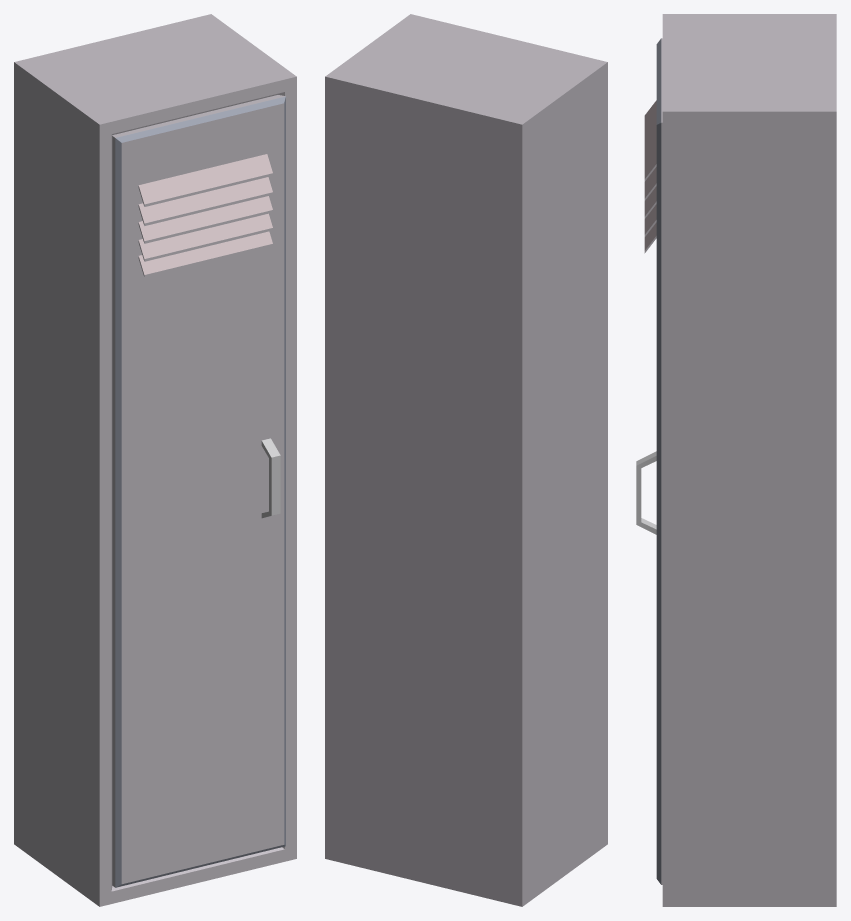
File: Shelf.fbx
3 renders of one model, left to right at view 1: azimuth 30°, elevation 25°; view 2: azimuth 150°, elevation 25°; view 3: azimuth 270°, elevation 25°, orthographic.
Visible parts, largest first — view 1: Door_01, Shelf; view 2: Shelf; view 3: Shelf, Door_01.
Part boxes in pixels (<box>): Door_01: <box>112,95,285,887</box>; Shelf: <box>14,14,296,906</box>; Shelf: <box>325,14,607,906</box>; Shelf: <box>662,14,836,906</box>; Door_01: <box>636,38,662,884</box>.
Bounding box in the file's own units: 57.68 × 219 × 49.84.
Materials: 1 (1 with a texture image).
